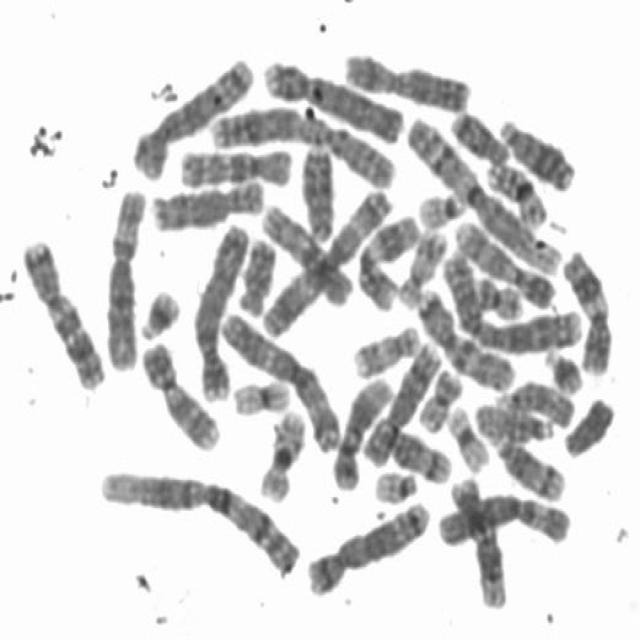A1: (401, 106, 565, 280), (93, 458, 306, 580)
A2: (203, 99, 399, 191), (437, 244, 587, 354)
A3: (255, 180, 396, 340), (215, 303, 344, 455)
B4: (258, 49, 409, 144), (189, 213, 254, 404)
B5: (126, 48, 258, 180), (301, 491, 435, 598)
C10: (256, 196, 356, 309), (173, 140, 296, 189)
C11: (558, 242, 614, 378), (352, 207, 422, 312)
C12: (446, 469, 511, 611), (328, 368, 396, 493)
C6: (99, 180, 150, 374), (430, 483, 574, 550)
C7: (15, 228, 109, 393), (412, 280, 520, 393)
C8: (358, 333, 443, 469), (146, 171, 268, 233)
C9: (448, 211, 558, 311), (135, 332, 224, 453)
D13: (494, 110, 578, 194), (295, 135, 339, 242)
D14: (361, 413, 455, 486), (486, 427, 569, 503)
D15: (492, 372, 578, 431), (469, 396, 556, 444)
E16: (253, 401, 310, 503), (482, 151, 552, 228)
E17: (394, 221, 451, 309), (348, 316, 422, 380)
E18: (445, 103, 512, 166), (232, 230, 279, 317)
F19: (442, 398, 492, 473), (227, 370, 294, 418)
F20: (412, 362, 466, 433), (469, 268, 525, 322)
G21: (134, 280, 184, 343), (539, 340, 586, 396)
G22: (413, 180, 470, 230), (368, 463, 422, 505)
X: (338, 44, 474, 114)
Y: (559, 388, 618, 460)
